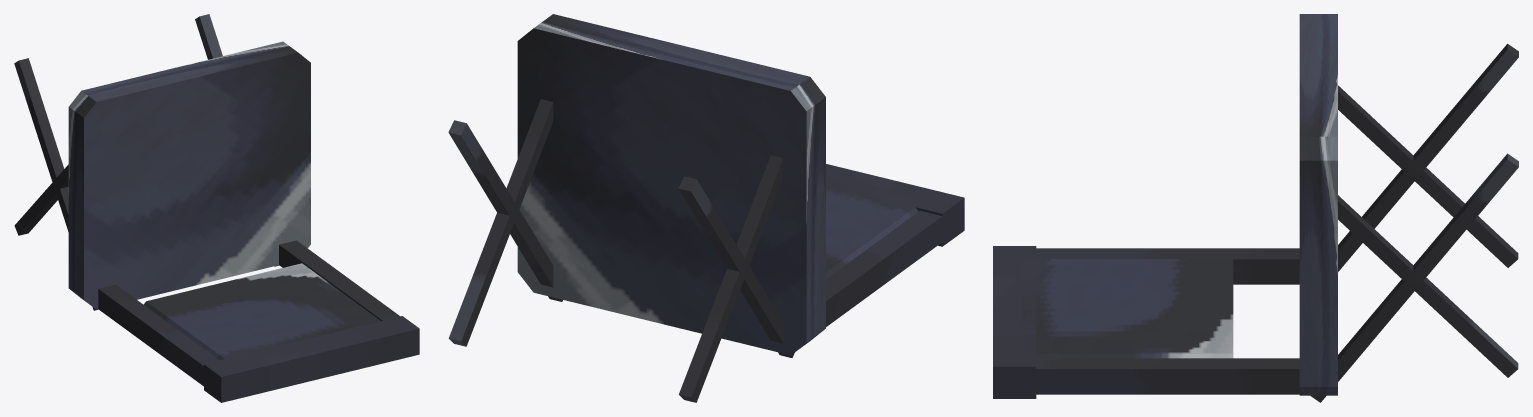
File: pz_chair_seating_indoor_01_folding.obj
The picture shows the model from 3 angles, left to right: view 1: azimuth 30°, elevation 25°; view 2: azimuth 150°, elevation 25°; view 3: azimuth 270°, elevation 25°; orthographic projection. The views are drawn at different scales.
Size of the model in its own units: 0.64 by 0.5835 by 1.03.
Materials: 1 (1 with a texture image).
